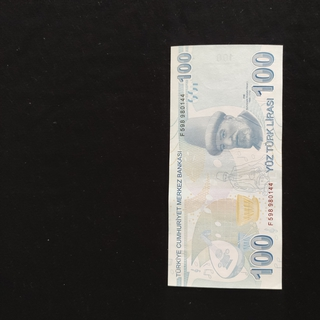100TLBack: (167, 44, 284, 290)
